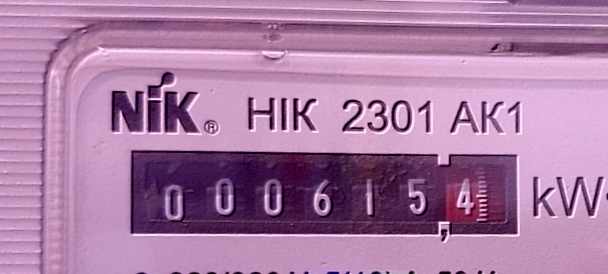0: (258, 173, 284, 217), (159, 178, 185, 220), (211, 173, 235, 213)
1: (361, 173, 376, 215)
4: (453, 173, 473, 214)
5: (404, 172, 428, 215)
6: (308, 174, 333, 215)
screen: (113, 129, 531, 255)
